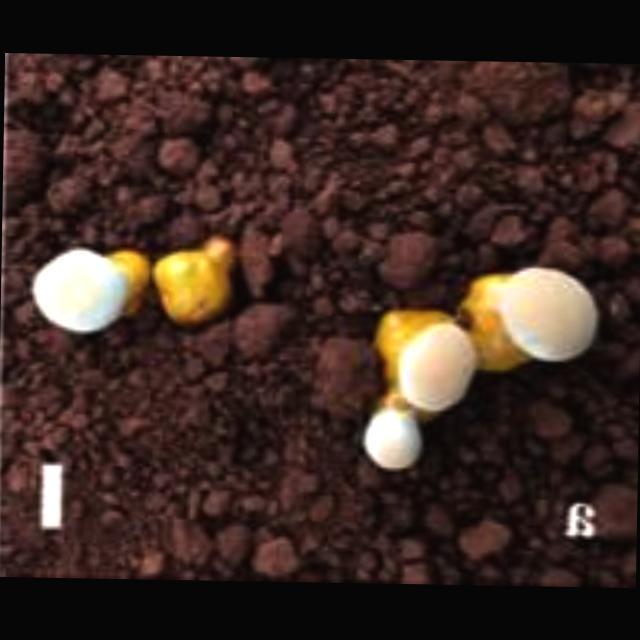primordium: (470, 263, 603, 377), (27, 244, 151, 339), (398, 320, 480, 414), (361, 406, 426, 477)
